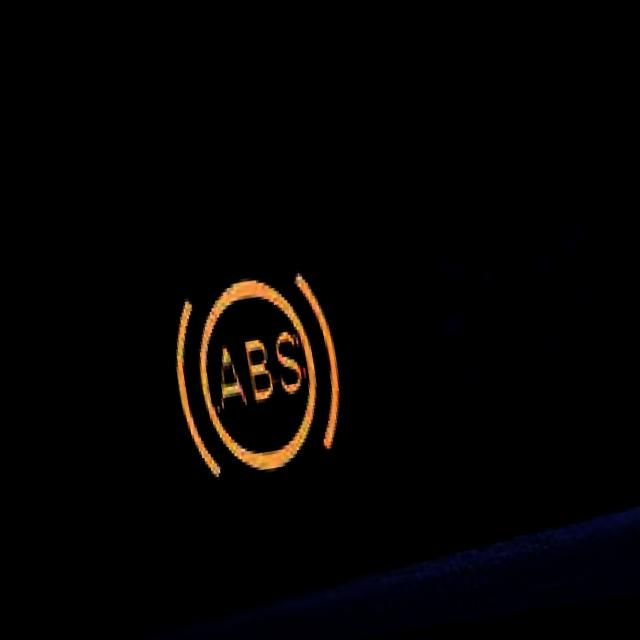kontrolka: (152, 246, 364, 495)
